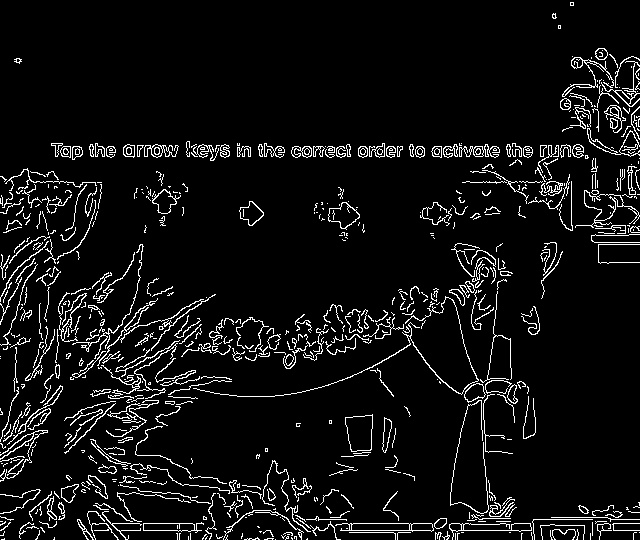right: (414, 196, 457, 231), (324, 195, 364, 232), (231, 197, 268, 232)
up: (148, 185, 182, 221)
